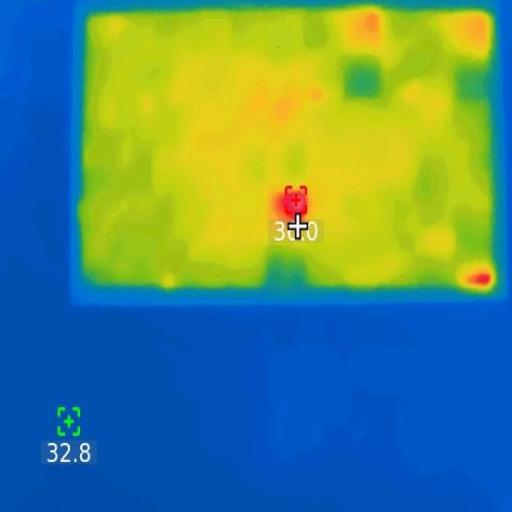hotspot: (282, 192, 309, 215), (472, 273, 492, 287)
